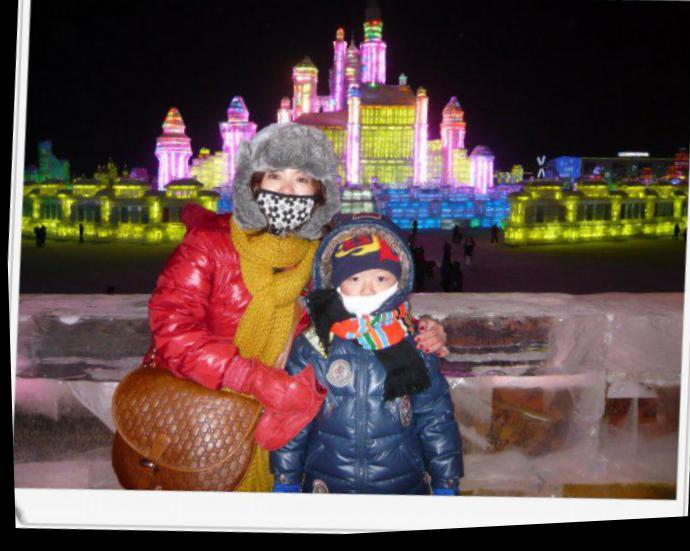WRONG: (247, 160, 330, 245), (334, 265, 406, 338)
